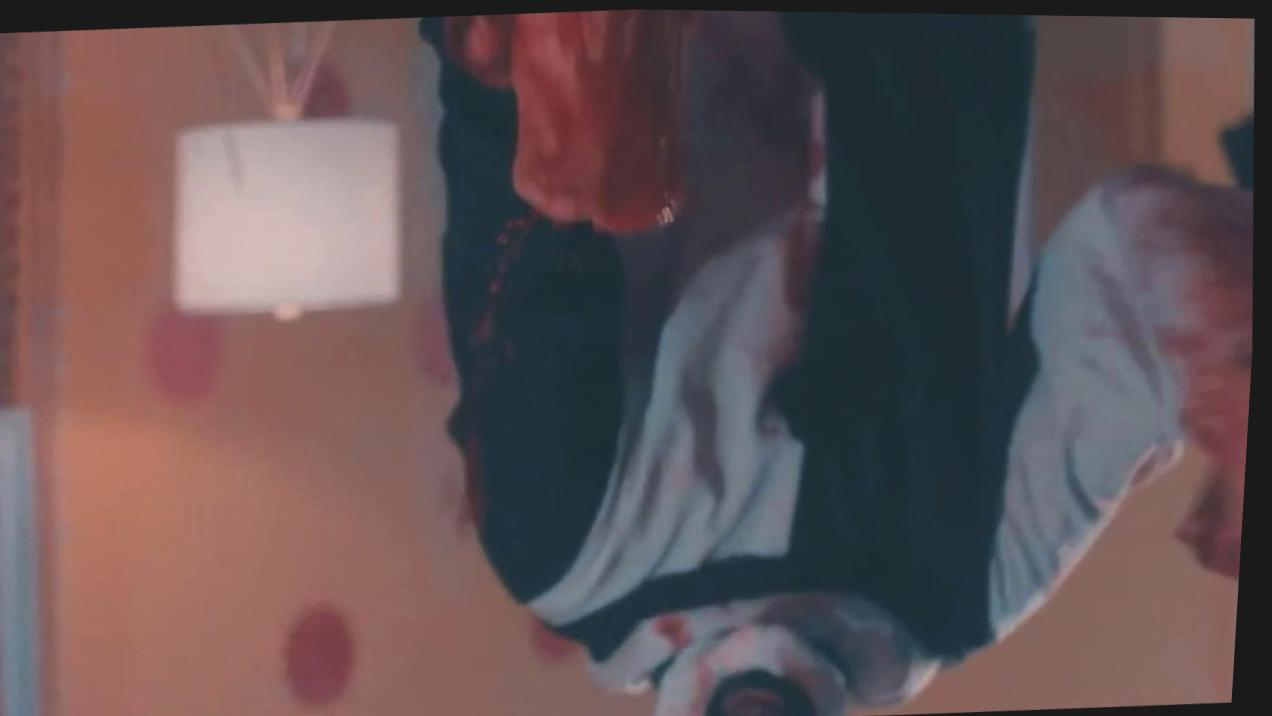Fire: (443, 7, 823, 628), (1003, 166, 1256, 633), (599, 585, 947, 716), (445, 227, 527, 524), (436, 476, 467, 542)
